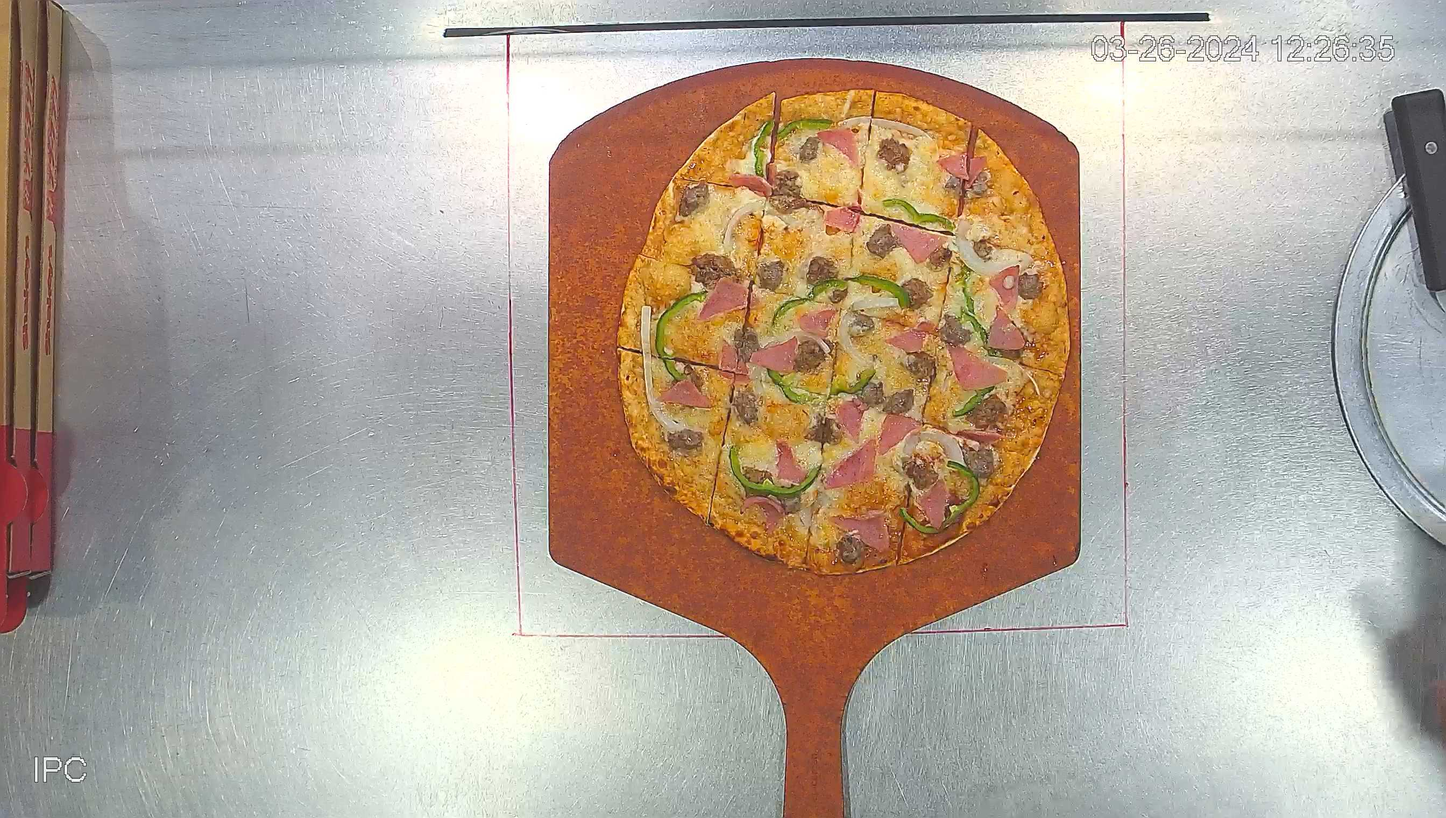hawaiian: (616, 87, 1070, 574)
